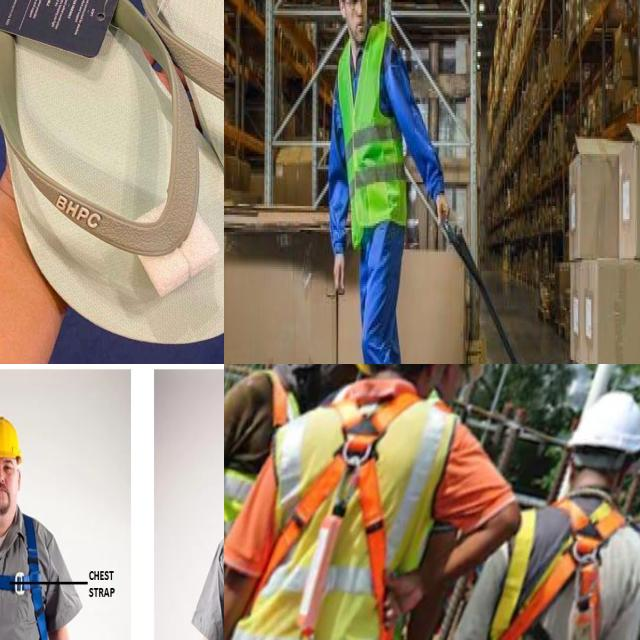Harness: (258, 394, 417, 638), (496, 499, 626, 640), (557, 499, 626, 640), (0, 510, 54, 640)
Sandals: (0, 0, 224, 364)
face_nomask: (341, 0, 376, 47)
hand_noglove: (429, 167, 454, 241), (331, 245, 349, 315)
person: (318, 0, 438, 364)
vest: (336, 22, 407, 238)
